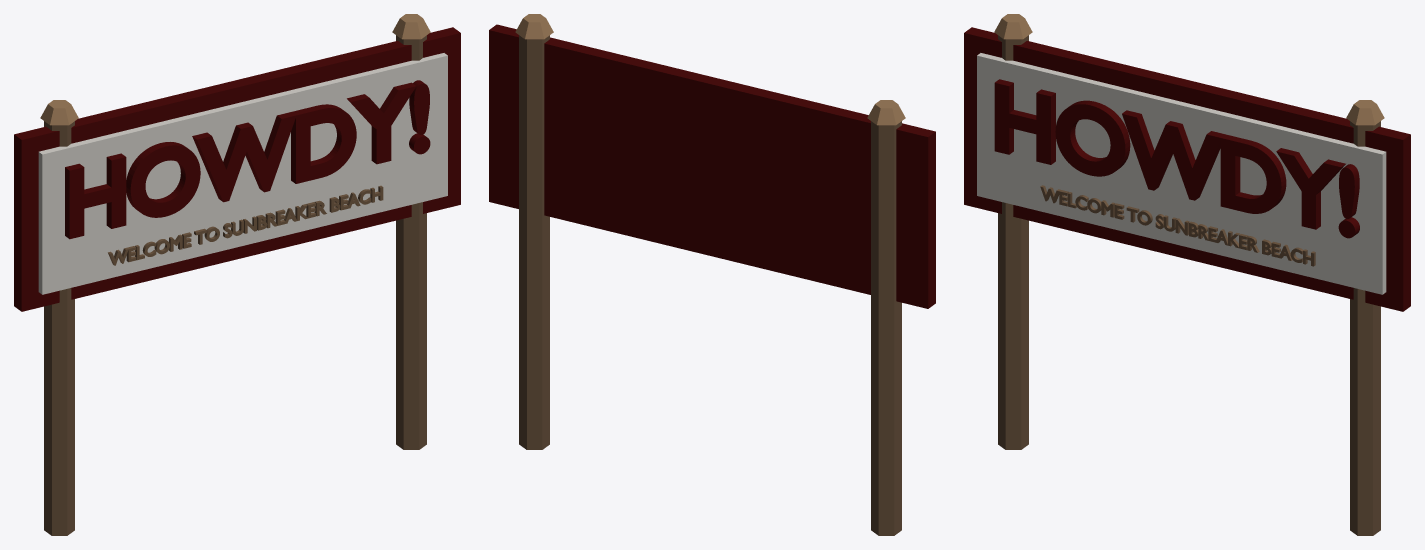
Rendered from Howdy_Sign.glb.
3 renders of one model, left to right at view 1: azimuth 30°, elevation 25°; view 2: azimuth 150°, elevation 25°; view 3: azimuth 330°, elevation 25°, orthographic.
Visible parts, largest first — view 1: Howdy_Sign; view 2: Howdy_Sign; view 3: Howdy_Sign.
Part boxes in pixels (left/top/right/bottom): Howdy_Sign: left=14, top=14, right=460, bottom=535; Howdy_Sign: left=489, top=14, right=935, bottom=535; Howdy_Sign: left=964, top=14, right=1410, bottom=535.
Size of the model in its own units: 2.62 by 2.43 by 0.25.
